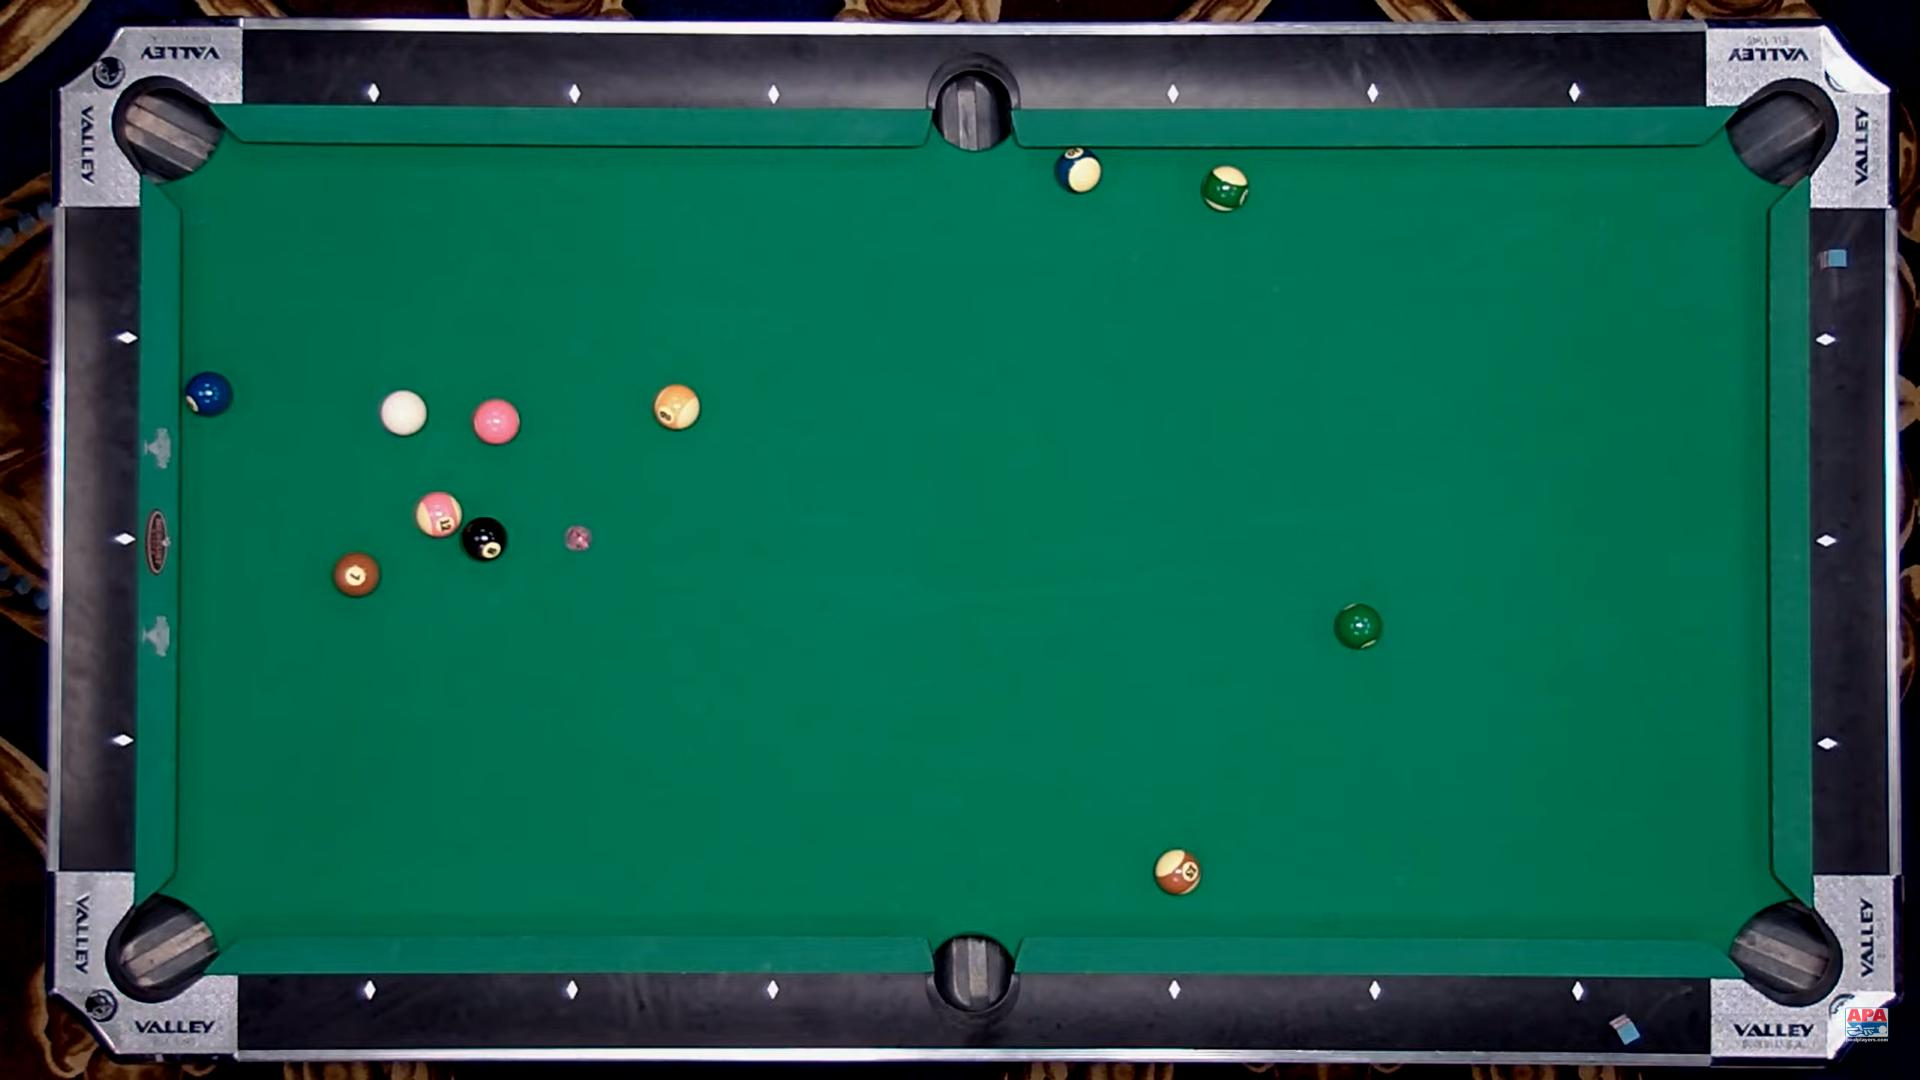Black: (463, 518, 508, 562)
Cue: (380, 390, 428, 436)
Dot: (567, 982, 582, 996), (366, 83, 380, 97), (568, 88, 582, 102), (766, 90, 780, 104), (1166, 86, 1180, 100), (1365, 86, 1379, 100), (1818, 332, 1832, 346), (1818, 535, 1832, 549), (1822, 738, 1836, 752), (1572, 986, 1586, 1000), (1370, 984, 1384, 998), (1166, 984, 1180, 998), (764, 984, 778, 998), (362, 985, 376, 999), (114, 732, 128, 746), (118, 532, 132, 546), (119, 330, 133, 344), (1568, 85, 1582, 98)
Solid: (1336, 602, 1384, 650), (186, 372, 234, 418), (474, 399, 520, 445), (333, 552, 380, 597)
Striped: (1202, 164, 1252, 213), (1055, 147, 1102, 194), (1156, 849, 1202, 896), (654, 384, 700, 431), (416, 492, 463, 538)
